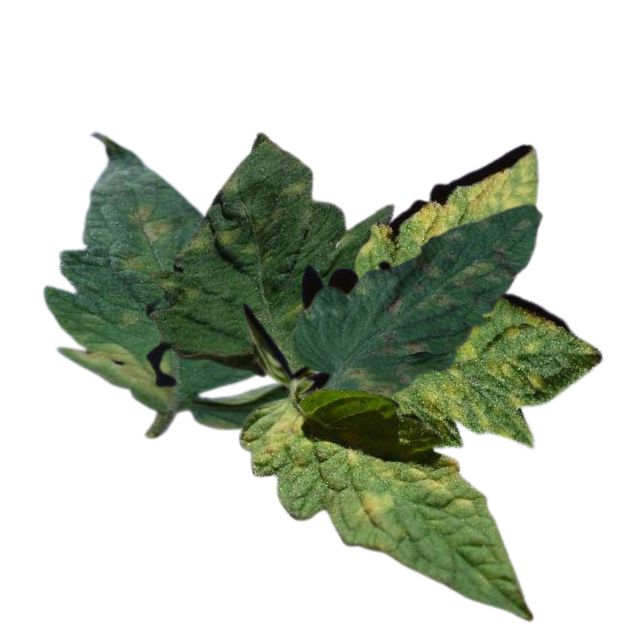Leaf_Mold: (421, 305, 602, 448), (357, 147, 537, 254), (386, 219, 535, 320), (61, 340, 173, 405), (343, 332, 429, 396), (179, 212, 263, 262), (246, 407, 306, 464), (344, 489, 398, 551), (126, 197, 174, 245), (406, 455, 460, 493), (280, 169, 315, 205), (344, 448, 361, 472)
